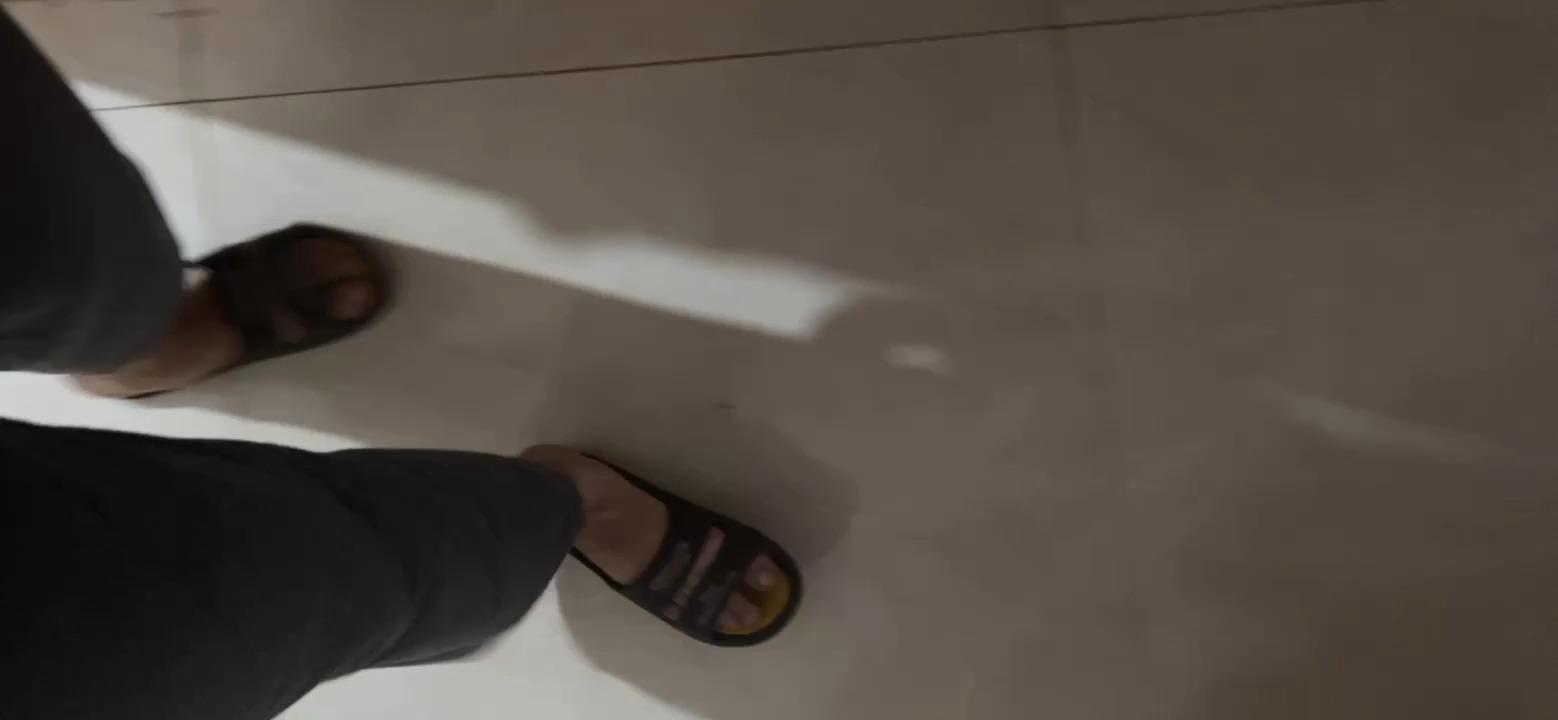no-boot: (523, 403, 816, 649), (97, 231, 436, 392)
